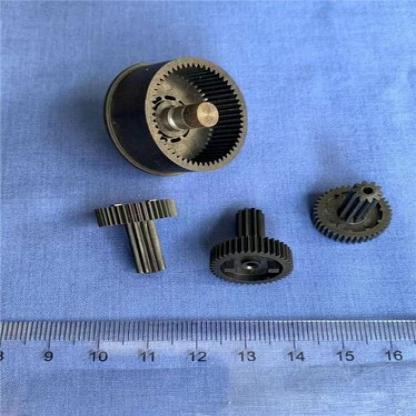FOD: (103, 54, 250, 178), (91, 196, 182, 279), (205, 207, 297, 286), (309, 180, 400, 244)
